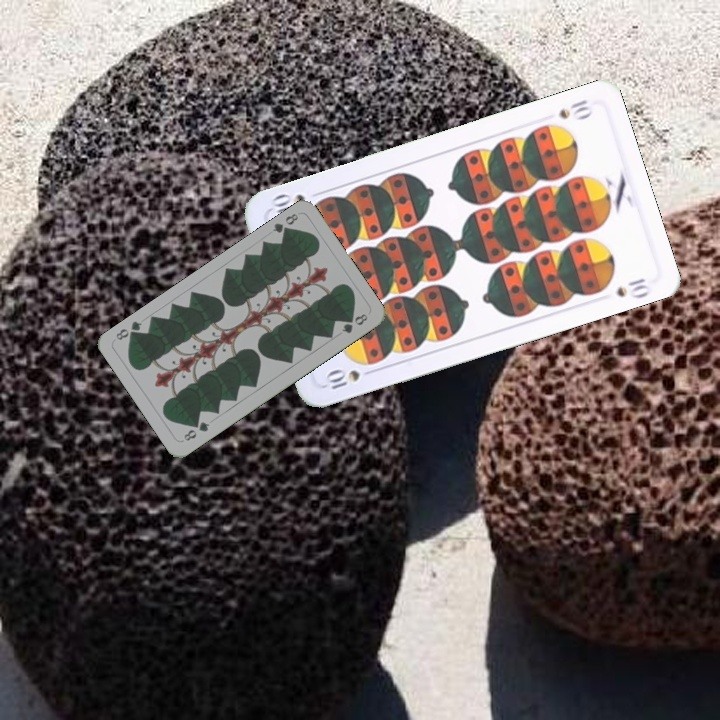G8: (268, 209, 301, 239), (179, 417, 212, 444)
S10: (320, 365, 379, 392), (554, 95, 596, 123)
